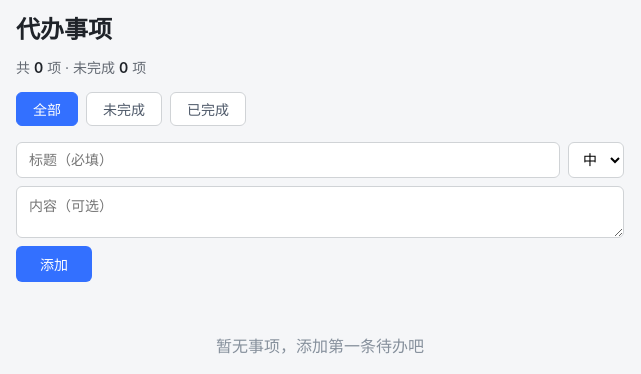
App 集成 › 勾选完成 + 筛选联动
Step 1. Type "任务A" into the field named "标题" → coordinates (288, 160), box [16, 142, 560, 178]
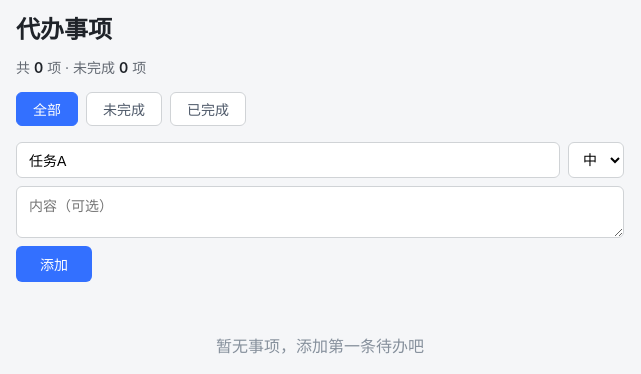
Step 2. Submit the form, box [16, 142, 624, 282]
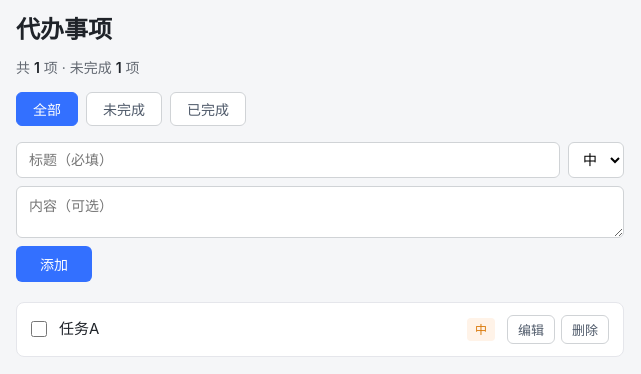
Step 3. Click the checkbox → coordinates (39, 329), box [31, 321, 47, 337]
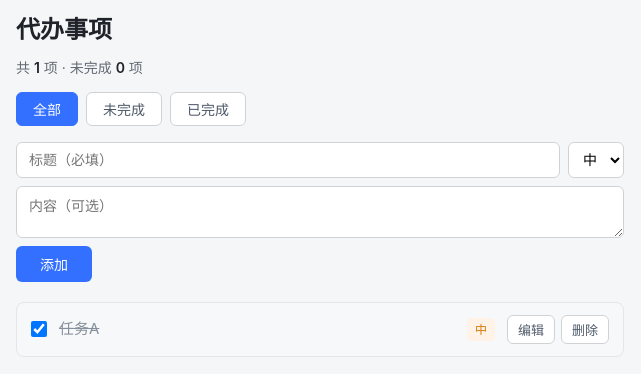
Step 4. Click the button "已完成" → coordinates (208, 109), box [170, 92, 246, 126]
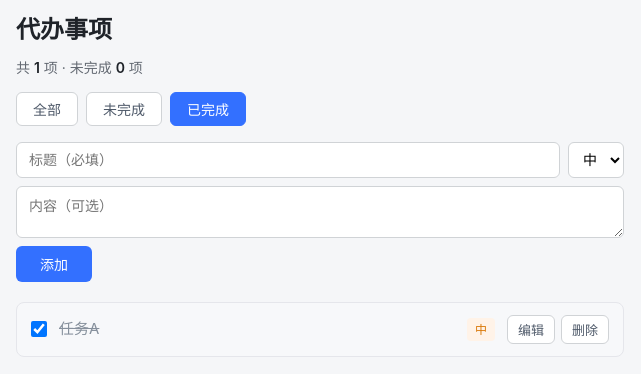
Expected: the text "任务A" is shown, [59, 319, 99, 338]
Step 5. Click the button "未完成" → coordinates (124, 109), box [86, 92, 162, 126]
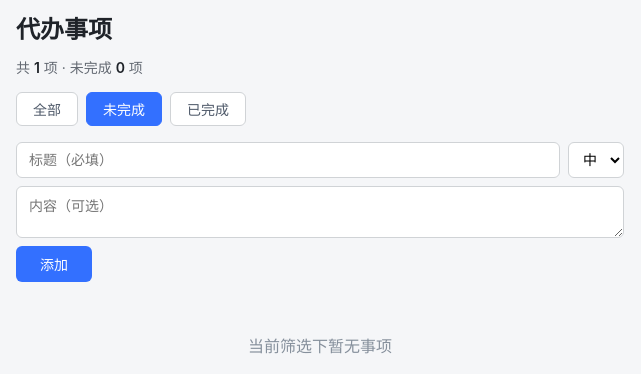
Expected: the text "任务A" is gone
